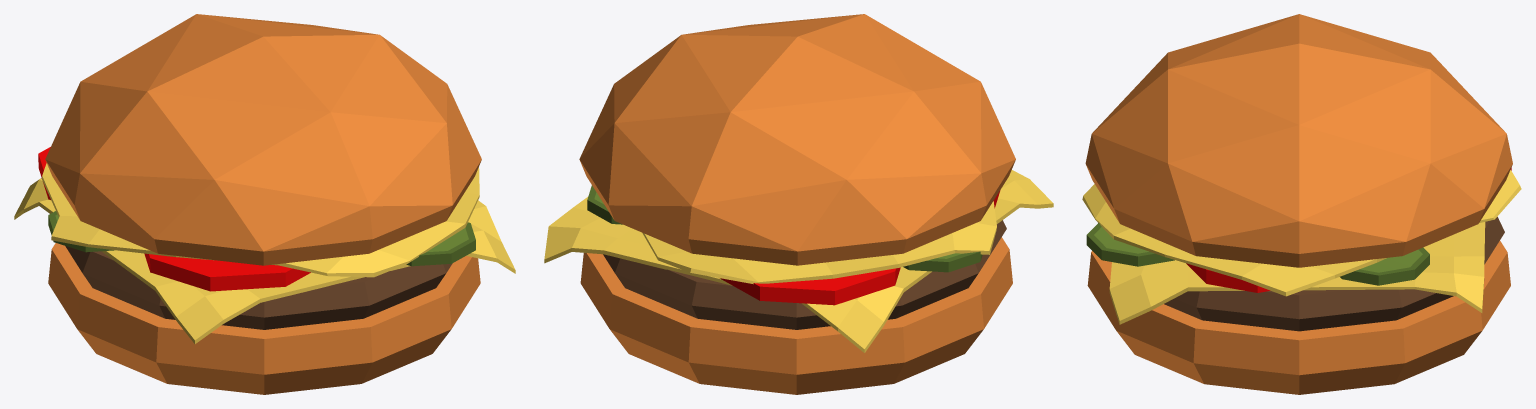
File: burger.fbx
3 renders of one model, left to right at view 1: azimuth 30°, elevation 25°; view 2: azimuth 150°, elevation 25°; view 3: azimuth 270°, elevation 25°, orthographic. The views are drawn at different scales.
Parts seen in each view (by area): view 1: GeoSphere001, Cylinder003, Cylinder004, Plane033, Plane034, tomato_slice_003, pickle_002; view 2: GeoSphere001, Cylinder003, Plane033, Cylinder004, Plane034, tomato_slice_02, pickle_001, pickle_003; view 3: GeoSphere001, Cylinder003, Cylinder004, Plane033, Plane034, pickle_003, pickle_002, tomato_slice_004.
Boxes of the visible parts, x1,y1,x2,y2 form: GeoSphere001: [45, 14, 481, 265]; Cylinder003: [48, 243, 480, 394]; Cylinder004: [65, 246, 452, 329]; Plane033: [14, 178, 515, 343]; Plane034: [42, 163, 479, 277]; tomato_slice_003: [144, 253, 310, 291]; pickle_002: [406, 222, 475, 266]; GeoSphere001: [579, 14, 1015, 265]; Cylinder003: [580, 237, 1012, 394]; Plane033: [544, 170, 1053, 352]; Cylinder004: [603, 220, 1006, 329]; Plane034: [642, 201, 996, 284]; tomato_slice_02: [719, 267, 900, 305]; pickle_001: [903, 251, 982, 272]; pickle_003: [587, 185, 622, 224]; GeoSphere001: [1085, 14, 1512, 267]; Cylinder003: [1087, 241, 1510, 394]; Cylinder004: [1164, 217, 1504, 331]; Plane033: [1109, 222, 1485, 324]; Plane034: [1082, 170, 1521, 296]; pickle_003: [1340, 247, 1429, 285]; pickle_002: [1086, 223, 1174, 266]; tomato_slice_004: [1186, 263, 1270, 292].
Size of the model in its own units: 345 by 224 by 329.
1 material, 1 textured.
